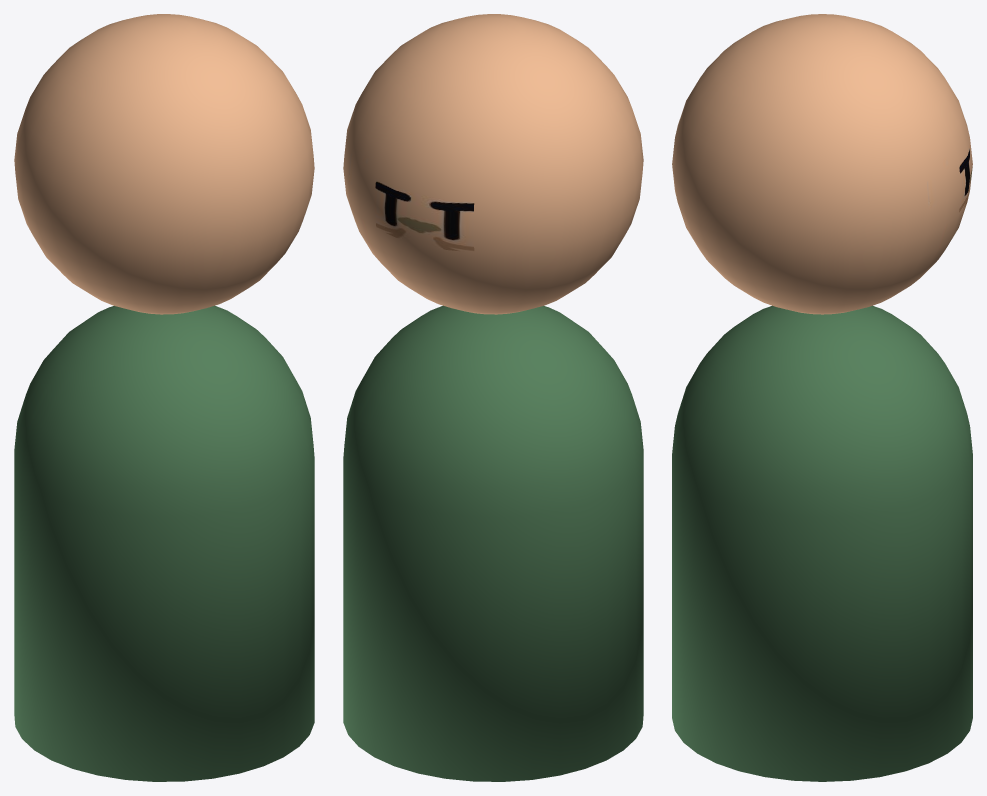
Rendered from DrunkGuy.fbx.
3 renders of one model, left to right at view 1: azimuth 30°, elevation 25°; view 2: azimuth 150°, elevation 25°; view 3: azimuth 270°, elevation 25°, orthographic.
Visible parts, largest first — view 1: corp, tete; view 2: corp, tete; view 3: corp, tete.
Boxes of the visible parts, box(x1,y1,x2,y2) form: corp: box(14, 305, 314, 781); tete: box(14, 14, 314, 314); corp: box(343, 305, 643, 781); tete: box(343, 14, 643, 314); corp: box(672, 305, 972, 781); tete: box(672, 14, 972, 314).
Size of the model in its own units: 120 by 304 by 120.
